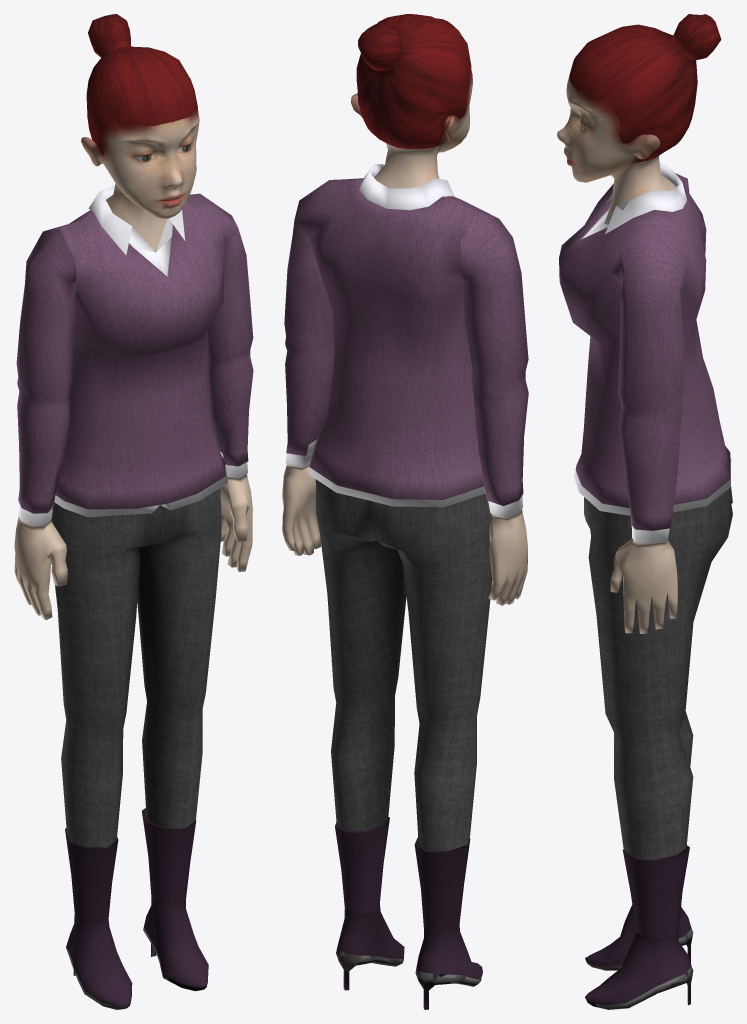
File: fperson06.glb
The picture shows the model from 3 angles, left to right: view 1: azimuth 30°, elevation 25°; view 2: azimuth 150°, elevation 25°; view 3: azimuth 270°, elevation 25°; orthographic projection. The views are drawn at different scales.
Visible parts, largest first — view 1: F_lBody_BaseMesh.001mesh.002; view 2: F_lBody_BaseMesh.001mesh.002; view 3: F_lBody_BaseMesh.001mesh.002.
Boxes of the visible parts, bbox=[...] form: F_lBody_BaseMesh.001mesh.002: bbox=[14, 14, 253, 1009]; F_lBody_BaseMesh.001mesh.002: bbox=[282, 14, 528, 1009]; F_lBody_BaseMesh.001mesh.002: bbox=[557, 14, 732, 1009].
Bounding box in the file's own units: 0.4791 × 1.91 × 0.3137.
Materials: 2 (2 with a texture image).
